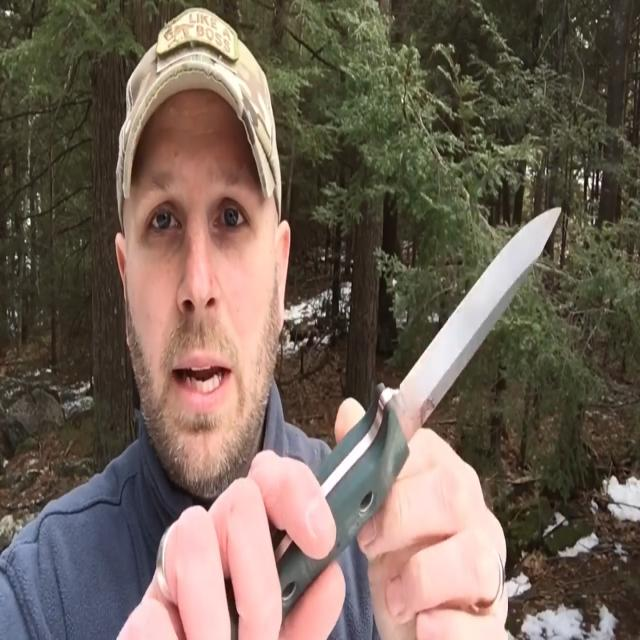knife: (276, 206, 566, 616)
